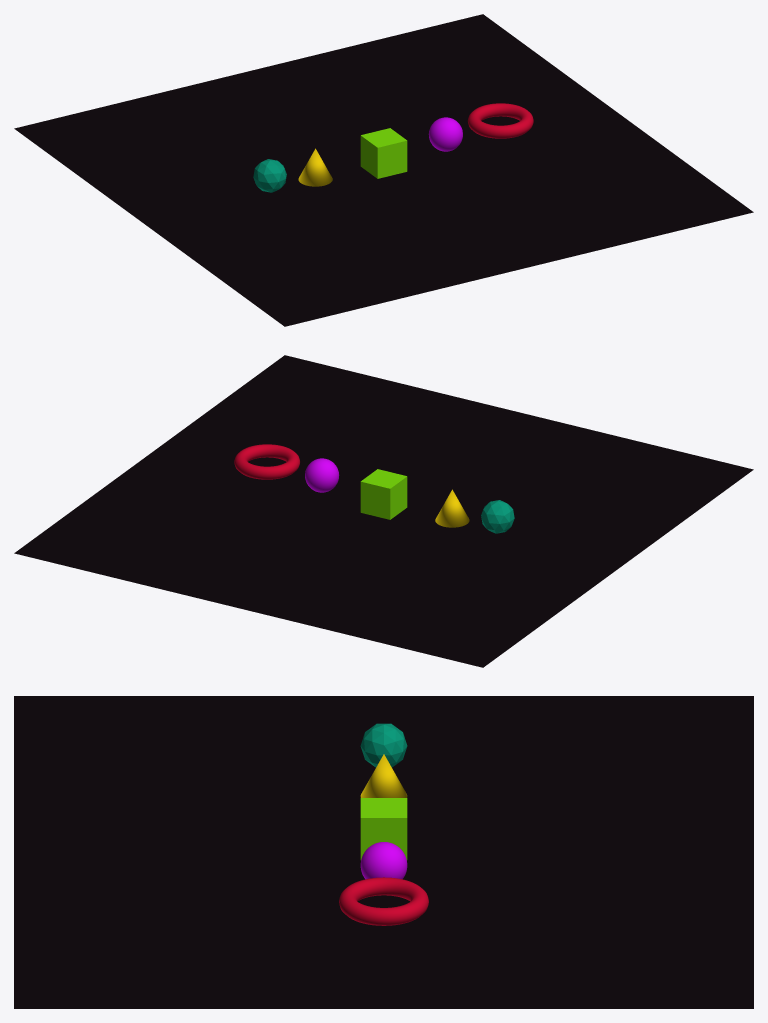
The model's file is demoroom (3).glb.
The picture shows the model from 3 angles, top to bottom: view 1: azimuth 30°, elevation 25°; view 2: azimuth 150°, elevation 25°; view 3: azimuth 270°, elevation 25°; orthographic projection. The views are drawn at different scales.
Visible parts, largest first — view 1: Plane, Cube, Torus, Sphere, Icosphere, Cone; view 2: Plane, Cube, Torus, Sphere, Icosphere, Cone; view 3: Plane, Torus, Cube, Icosphere, Sphere, Cone.
Part boxes in pixels (x1,y1,x2,y2): Plane: (14, 14, 753, 326); Cube: (360, 128, 407, 178); Torus: (468, 103, 533, 138); Sphere: (428, 117, 462, 151); Icosphere: (253, 159, 286, 192); Cone: (298, 148, 332, 186); Plane: (14, 355, 753, 667); Cube: (360, 469, 407, 519); Torus: (234, 444, 299, 479); Sphere: (305, 458, 339, 492); Icosphere: (481, 500, 514, 533); Cone: (435, 489, 469, 527); Plane: (14, 696, 753, 1008); Torus: (339, 877, 428, 925); Cube: (360, 798, 407, 859); Icosphere: (360, 723, 407, 767); Sphere: (360, 842, 407, 879); Cone: (360, 754, 407, 797).
Size of the model in its own units: 31.53 by 2.5 by 31.53.
